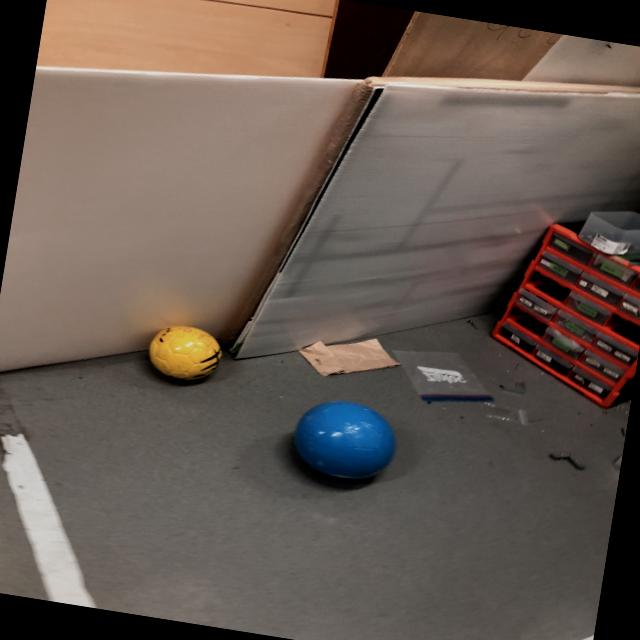blue_ball: (280, 390, 407, 492)
